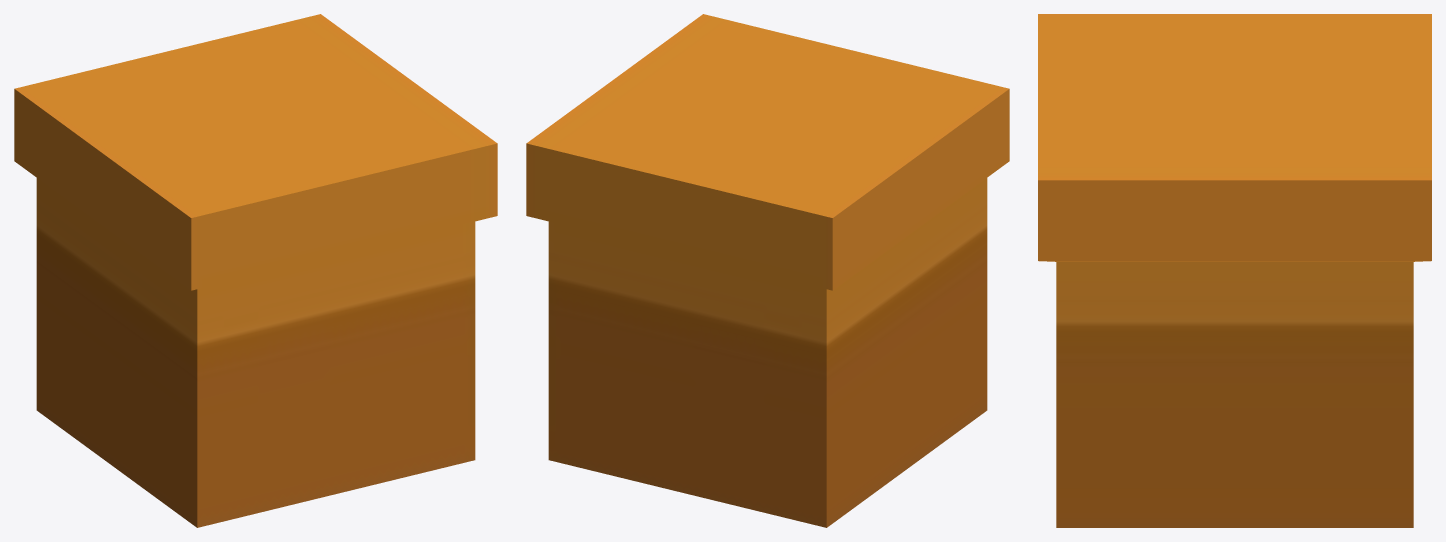
File: Deserto1.glb
3 views of the same model, side by side, from view 1: azimuth 30°, elevation 25°; view 2: azimuth 150°, elevation 25°; view 3: azimuth 270°, elevation 25° (orthographic). The views are drawn at different scales.
Parts seen in each view (by area): view 1: Deserto1; view 2: Deserto1; view 3: Deserto1.
Boxes of the visible parts, <box> form: Deserto1: <box>14,14,497,527</box>; Deserto1: <box>526,14,1009,527</box>; Deserto1: <box>1038,14,1431,527</box>.
Size of the model in its own units: 2 by 1.99 by 2.
Materials: 1 (1 with a texture image).
